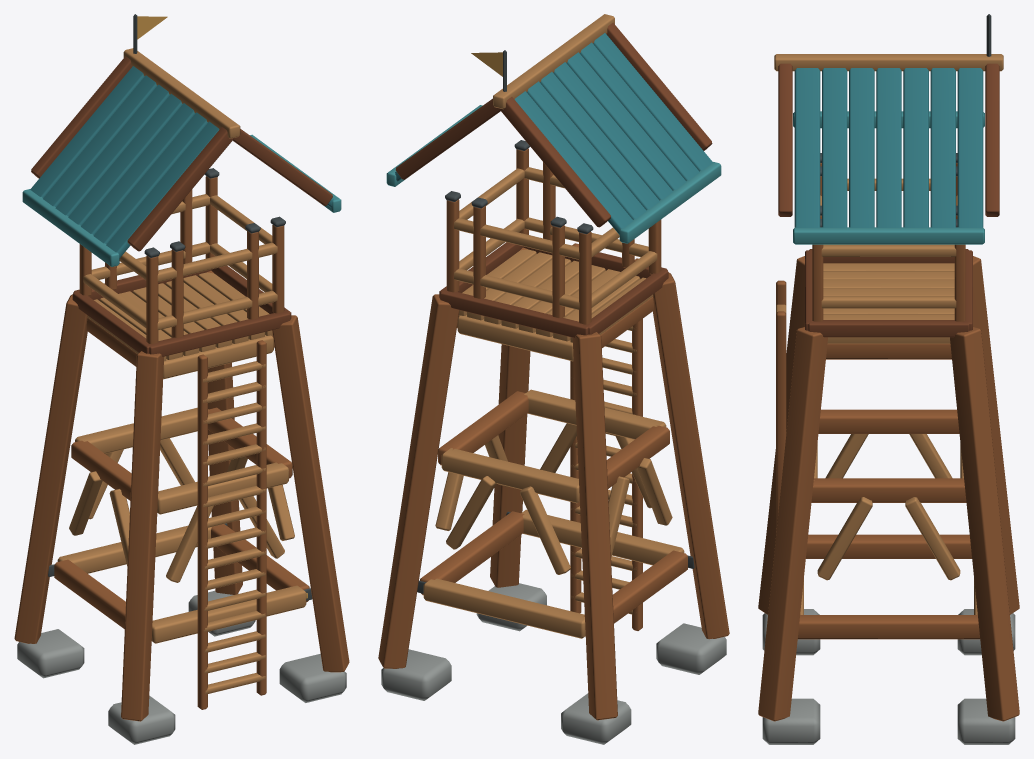
Rendered from tower.glb.
3 renders of one model, left to right at view 1: azimuth 30°, elevation 25°; view 2: azimuth 150°, elevation 25°; view 3: azimuth 270°, elevation 25°, orthographic. The views are drawn at different scales.
Parts seen in each view (by area): view 1: Main_Pylon, Main_Pylon_03, Main_Pylon_02, Ladder_Rail, Ladder_Rail_02, Crossbeam_FrontBack, Roof_Shingle_Panel_07, Roof_Rafter_L, Roof_Shingle_Panel_03, Roof_Shingle_Panel_05, Roof_Shingle_Panel_09, Roof_Shingle_Panel_11 (+61 smaller); view 2: Main_Pylon_02, Main_Pylon_04, Main_Pylon, Main_Pylon_03, Crossbeam_FrontBack_02, Crossbeam_FrontBack_04, Roof_Shingle_Panel_05, Roof_Rafter_L_02, Roof_Shingle_Panel, Roof_Shingle_Panel_07, Roof_Shingle_Panel_03, Roof_Shingle_Panel_11 (+48 smaller); view 3: Main_Pylon_03, Main_Pylon_04, Crossbeam_Side_02, Roof_Shingle_Panel_02, Roof_Shingle_Panel_14, Roof_Shingle_Panel_04, Roof_Shingle_Panel_06, Roof_Shingle_Panel_08, Roof_Shingle_Panel_10, Roof_Shingle_Panel_12, Crossbeam_Side_04, Main_Pylon_02 (+32 smaller).
Boxes of the visible parts, bbox=[...] form: Main_Pylon: bbox=[121, 351, 163, 721]; Main_Pylon_03: bbox=[272, 315, 349, 672]; Main_Pylon_02: bbox=[14, 294, 87, 643]; Ladder_Rail: bbox=[197, 354, 207, 709]; Ladder_Rail_02: bbox=[256, 340, 266, 695]; Crossbeam_FrontBack: bbox=[151, 585, 306, 643]; Roof_Shingle_Panel_07: bbox=[68, 93, 182, 225]; Roof_Rafter_L: bbox=[127, 127, 233, 251]; Roof_Shingle_Panel_03: bbox=[93, 112, 207, 244]; Roof_Shingle_Panel_05: bbox=[81, 103, 195, 234]; Roof_Shingle_Panel_09: bbox=[55, 84, 169, 216]; Roof_Shingle_Panel_11: bbox=[43, 75, 157, 206]; Main_Pylon_02: bbox=[572, 332, 617, 720]; Main_Pylon_04: bbox=[378, 294, 459, 668]; Main_Pylon: bbox=[652, 272, 729, 639]; Main_Pylon_03: bbox=[490, 247, 530, 587]; Crossbeam_FrontBack_02: bbox=[423, 578, 585, 638]; Crossbeam_FrontBack_04: bbox=[441, 448, 579, 503]; Roof_Shingle_Panel_05: bbox=[566, 52, 686, 190]; Roof_Rafter_L_02: bbox=[499, 97, 610, 227]; Roof_Shingle_Panel: bbox=[593, 33, 712, 171]; Roof_Shingle_Panel_07: bbox=[553, 62, 673, 200]; Roof_Shingle_Panel_03: bbox=[580, 42, 699, 180]; Roof_Shingle_Panel_11: bbox=[526, 81, 646, 219]; Main_Pylon_03: bbox=[758, 327, 827, 721]; Main_Pylon_04: bbox=[950, 327, 1019, 721]; Crossbeam_Side_02: bbox=[797, 615, 980, 639]; Roof_Shingle_Panel_02: bbox=[794, 68, 820, 227]; Roof_Shingle_Panel_14: bbox=[957, 68, 983, 227]; Roof_Shingle_Panel_04: bbox=[822, 68, 847, 227]; Roof_Shingle_Panel_06: bbox=[849, 68, 874, 227]; Roof_Shingle_Panel_08: bbox=[876, 68, 901, 227]; Roof_Shingle_Panel_10: bbox=[903, 68, 928, 227]; Roof_Shingle_Panel_12: bbox=[930, 68, 955, 227]; Crossbeam_Side_04: bbox=[811, 478, 966, 502]; Main_Pylon_02: bbox=[973, 256, 1019, 614].
Size of the model in its own units: 3.38 by 8.8 by 3.08.
